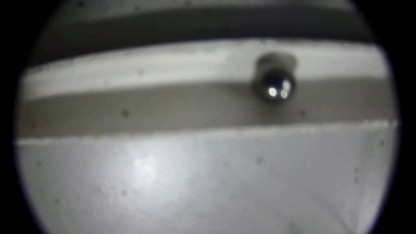gangzhu: (257, 70, 298, 104)
